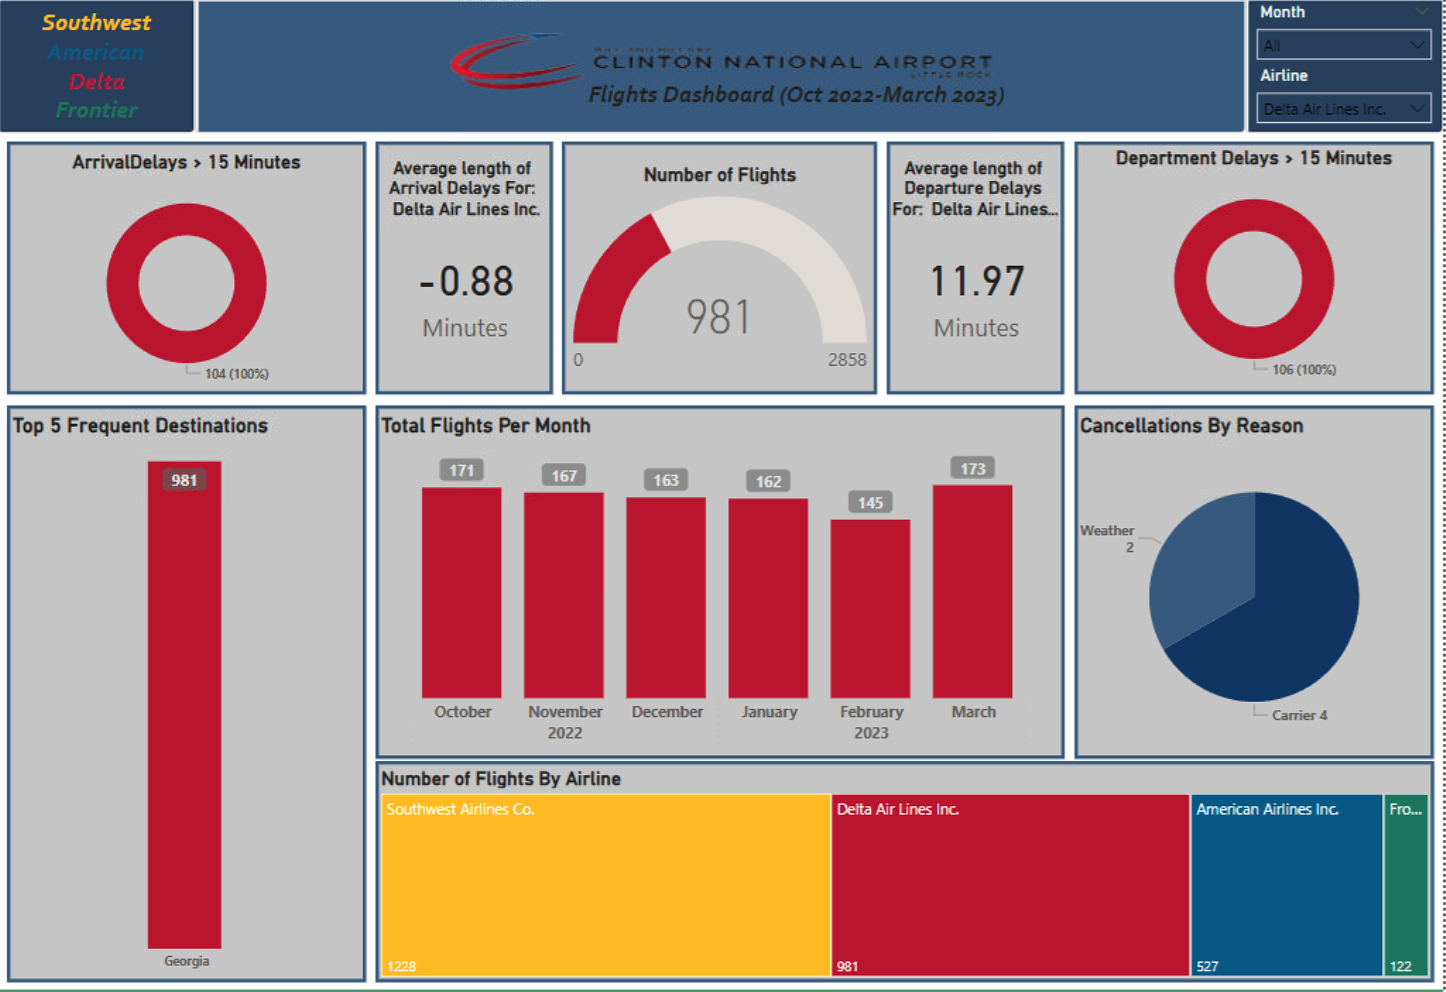

The dashboard page shown, as its layout file describes it:
{"tool":"powerbi","page":{"name":"Page 1","canvas":[1280,900],"ordinal":0},"visuals":[{"type":"shape","box":[1105,0,175,120],"z":0},{"type":"shape","box":[335,676,937,196],"z":1000},{"type":"shape","box":[954,361,318,313],"z":2000},{"type":"shape","box":[335,361,610,313],"z":3000},{"type":"shape","box":[9,361,318,511],"z":4000},{"type":"shape","box":[954,128,318,224],"z":5000},{"type":"shape","box":[788,128,157,224],"z":6000},{"type":"shape","box":[335,128,157,224],"z":7000},{"type":"shape","box":[500,128,279,224],"z":8000},{"type":"shape","box":[175,0,930,120],"z":9000},{"type":"slicer","fields":{"Values":["lr_airport_data.AIRLINE_NAME"]},"box":[1105,56,175,64],"z":10000},{"type":"textbox","title":"Source: Bureau Transportation Statistics ","box":[0,879,1280,21],"z":11000},{"type":"treemap","title":"Number of Flights By Airline","fields":{"Group":["lr_airport_data.AIRLINE_NAME"],"Values":["#Measures.NumofFlights"]},"box":[335,681,937,191],"z":12000},{"type":"gauge","title":"Number of Flights","fields":{"Y":["#Measures.NumofFlights"]},"box":[505,146,270,206],"z":13000},{"type":"donutChart","title":"Department Delays > 15 Minutes","fields":{"Category":["lr_airport_data.AIRLINE_NAME"],"Y":["Sum(lr_airport_data.DEP_DEL15)"]},"box":[954,131,318,217],"z":14000},{"type":"pieChart","title":"Cancellations By Reason","fields":{"Y":["CountNonNull(lr_airport_data.CANCELLED)"],"Category":["lr_airport_data.CANCELLATION_DESCRIPTION"]},"box":[954,368,318,306],"z":15000},{"type":"columnChart","title":"Top 5 Frequent Destinations","fields":{"Category":["lr_airport_data.DEST_STATE_NM"],"Y":["#Measures.NumofFlights"],"Series":["lr_airport_data.AIRLINE_NAME"]},"box":[9,368,318,504],"z":16000},{"type":"lineStackedColumnComboChart","title":"Total Flights Per Month","fields":{"Y":["#Measures.NumofFlights"],"Category":["lr_airport_data.FL_DATE.Variation.Date Hierarchy.Year","lr_airport_data.FL_DATE.Variation.Date Hierarchy.Month"],"Series":["lr_airport_data.AIRLINE_NAME"]},"box":[335,368,607,306],"z":17000},{"type":"image","box":[386,0,507,120],"z":18000},{"type":"card","title":"Minutes","fields":{"Values":["Avg(lr_airport_data.DEP_DELAY_NEW)"]},"box":[806,200,121,122],"z":19000},{"type":"card","fields":{"Values":["#Measures.TitleBar"]},"box":[788,128,157,83],"z":20000},{"type":"card","title":"Minutes","fields":{"Values":["Avg(lr_airport_data.ARR_DELAY)"]},"box":[356,200,116,122],"z":21000},{"type":"card","fields":{"Values":["#Measures.ArrDelayTitleBar"]},"box":[335,128,157,83],"z":22000},{"type":"slicer","fields":{"Values":["lr_airport_data.MonthYear"]},"box":[1105,0,175,56],"z":23000},{"type":"textbox","box":[481,67,453,42],"z":24000},{"type":"shape","box":[9,128,318,224],"z":25000},{"type":"donutChart","title":"ArrivalDelays > 15 Minutes","fields":{"Category":["lr_airport_data.AIRLINE_NAME"],"Y":["Sum(lr_airport_data.ARR_DEL15)"]},"box":[9,135,318,217],"z":26000},{"type":"shape","box":[0,0,175,120],"z":27000},{"type":"textbox","box":[20,4,135,120],"z":28000}]}

Visuals, with their boxes in screenshot pixels (x1, y1, x2, y2), scaled from the page's 1280x900 canvas onto the 1446x992 screenshot:
shape: [1248, 0, 1445, 132]
shape: [378, 745, 1437, 961]
shape: [1078, 398, 1437, 743]
shape: [378, 398, 1068, 743]
shape: [10, 398, 369, 961]
shape: [1078, 141, 1437, 388]
shape: [890, 141, 1068, 388]
shape: [378, 141, 556, 388]
shape: [565, 141, 880, 388]
shape: [198, 0, 1248, 132]
slicer - lr_airport_data.AIRLINE_NAME: [1248, 62, 1445, 132]
"Source: Bureau Transportation Statistics " textbox: [0, 969, 1445, 991]
"Number of Flights By Airline" treemap: [378, 751, 1437, 961]
"Number of Flights" gauge: [570, 161, 876, 388]
"Department Delays > 15 Minutes" donutChart: [1078, 144, 1437, 384]
"Cancellations By Reason" pieChart: [1078, 406, 1437, 743]
"Top 5 Frequent Destinations" columnChart: [10, 406, 369, 961]
"Total Flights Per Month" lineStackedColumnComboChart: [378, 406, 1064, 743]
image: [436, 0, 1009, 132]
"Minutes" card: [911, 220, 1047, 355]
card - #Measures.TitleBar: [890, 141, 1068, 233]
"Minutes" card: [402, 220, 533, 355]
card - #Measures.ArrDelayTitleBar: [378, 141, 556, 233]
slicer - lr_airport_data.MonthYear: [1248, 0, 1445, 62]
textbox: [543, 74, 1055, 120]
shape: [10, 141, 369, 388]
"ArrivalDelays > 15 Minutes" donutChart: [10, 149, 369, 388]
shape: [0, 0, 198, 132]
textbox: [23, 4, 175, 137]
